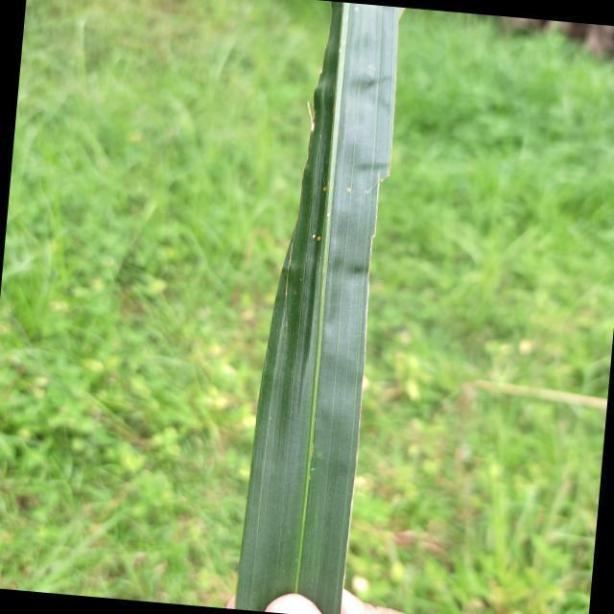Boron: (235, 0, 403, 614)
